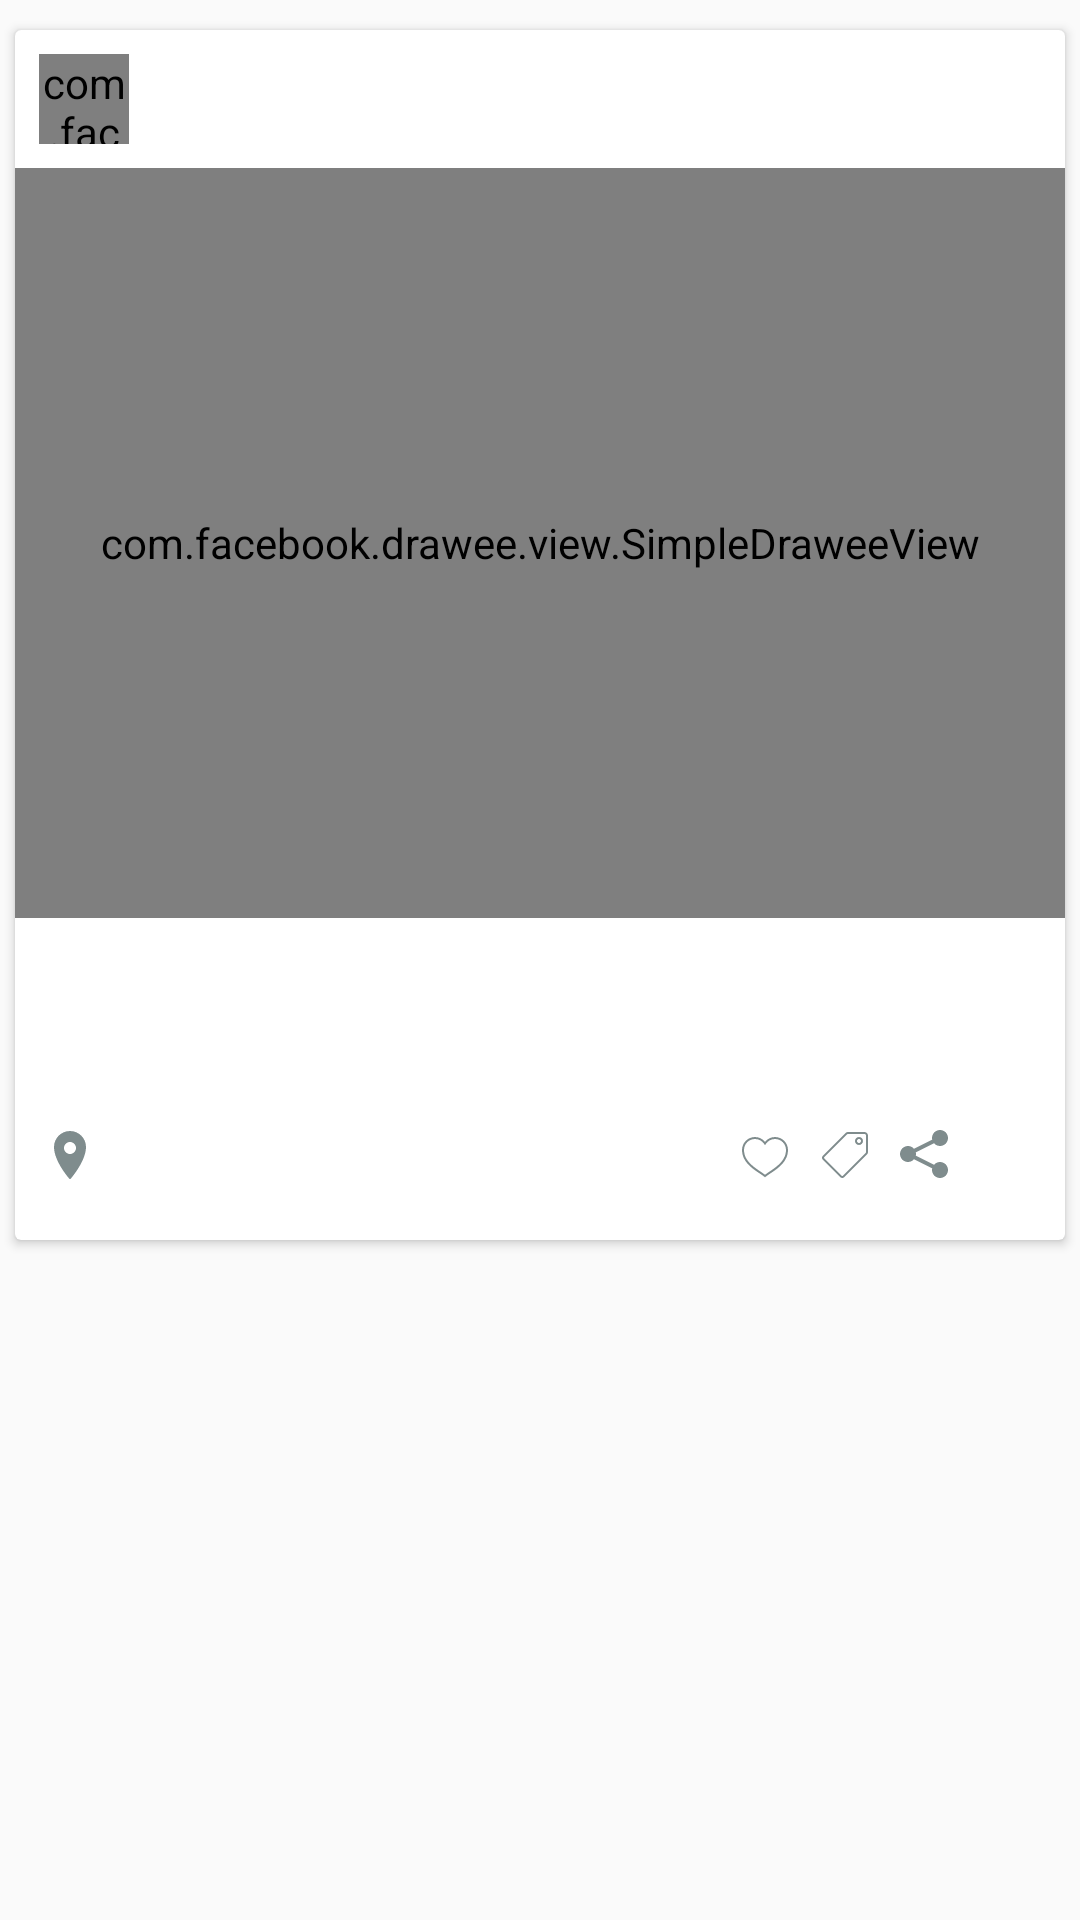

Point at icon controls on the screen. Image size 1080px x 1920px, points as (x=x, y=y).
like: (x=765, y=1157)
map: (x=70, y=1155)
share: (x=924, y=1154)
tag: (x=845, y=1155)
